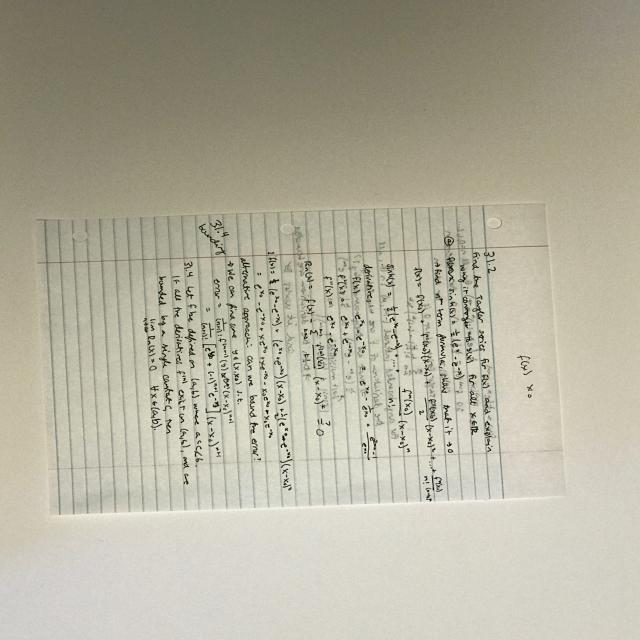paper: (31, 218, 570, 512)
